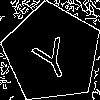Y: (27, 28, 76, 83)
